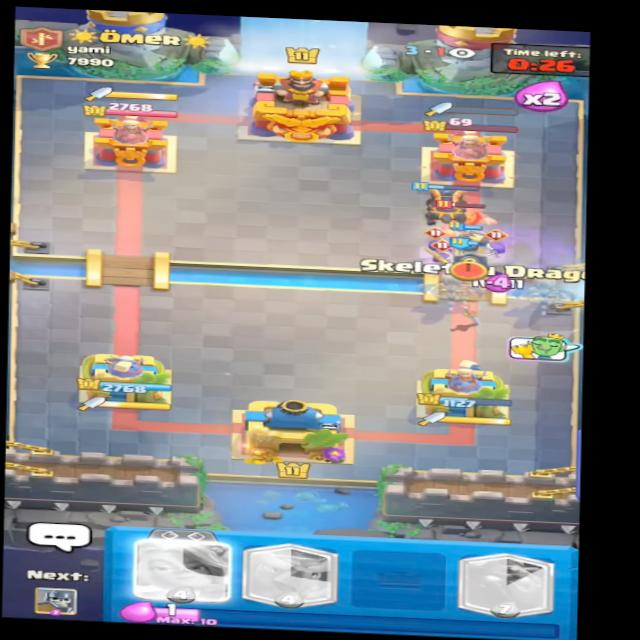evo-skeleton: (484, 227, 514, 261), (428, 245, 455, 267), (418, 230, 444, 248)
knight: (436, 203, 495, 235)
